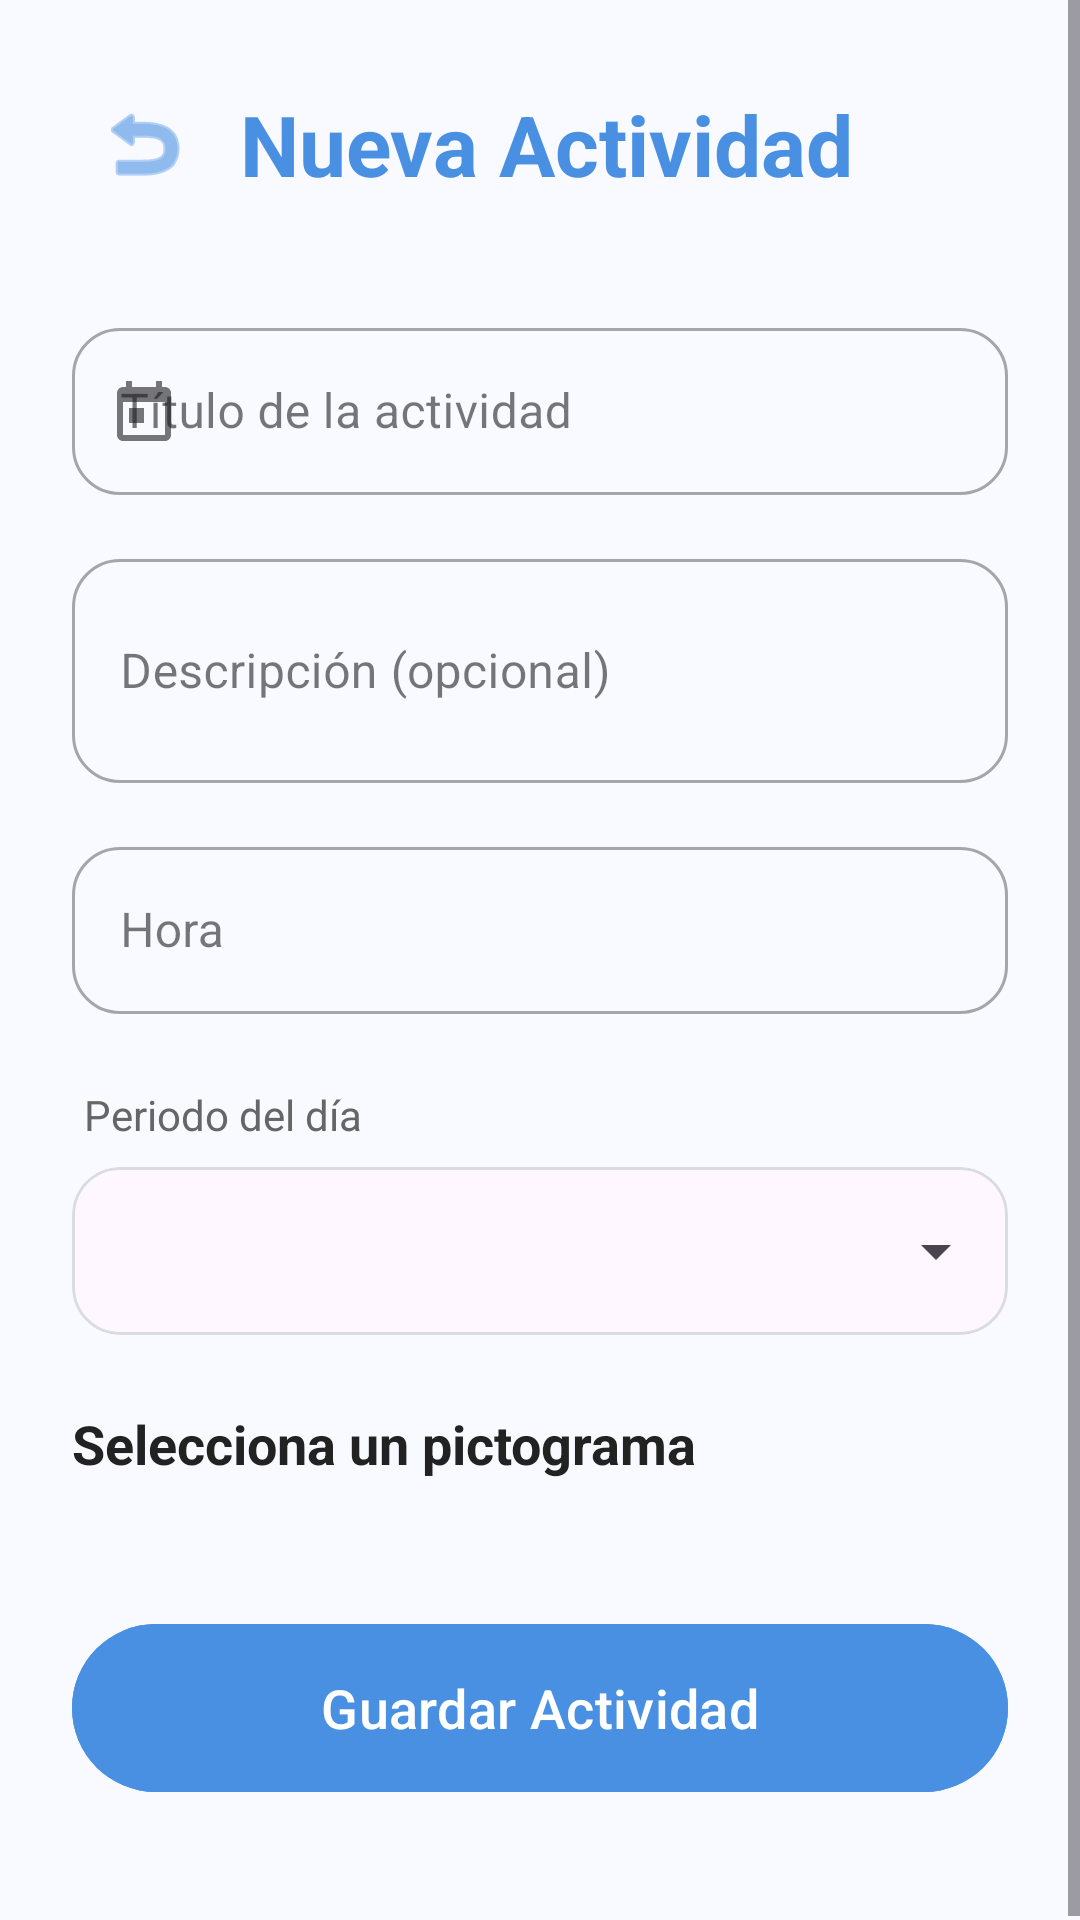

Icon bounding boxes for this 1080 × 1920 phone screenshot, format [x1=x1, y1=y1, x2=x2, y2=y2]:
Regresar: [x1=111, y1=113, x2=180, y2=176]
